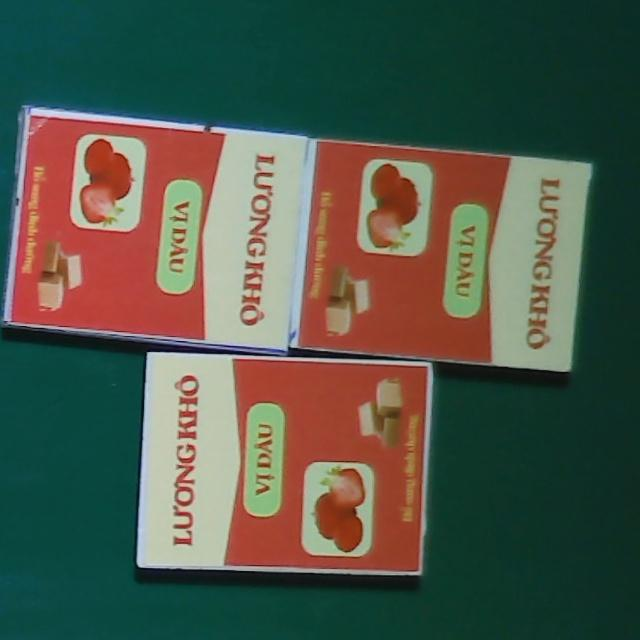dau: (0, 107, 313, 356), (292, 137, 593, 374), (136, 353, 431, 576)
